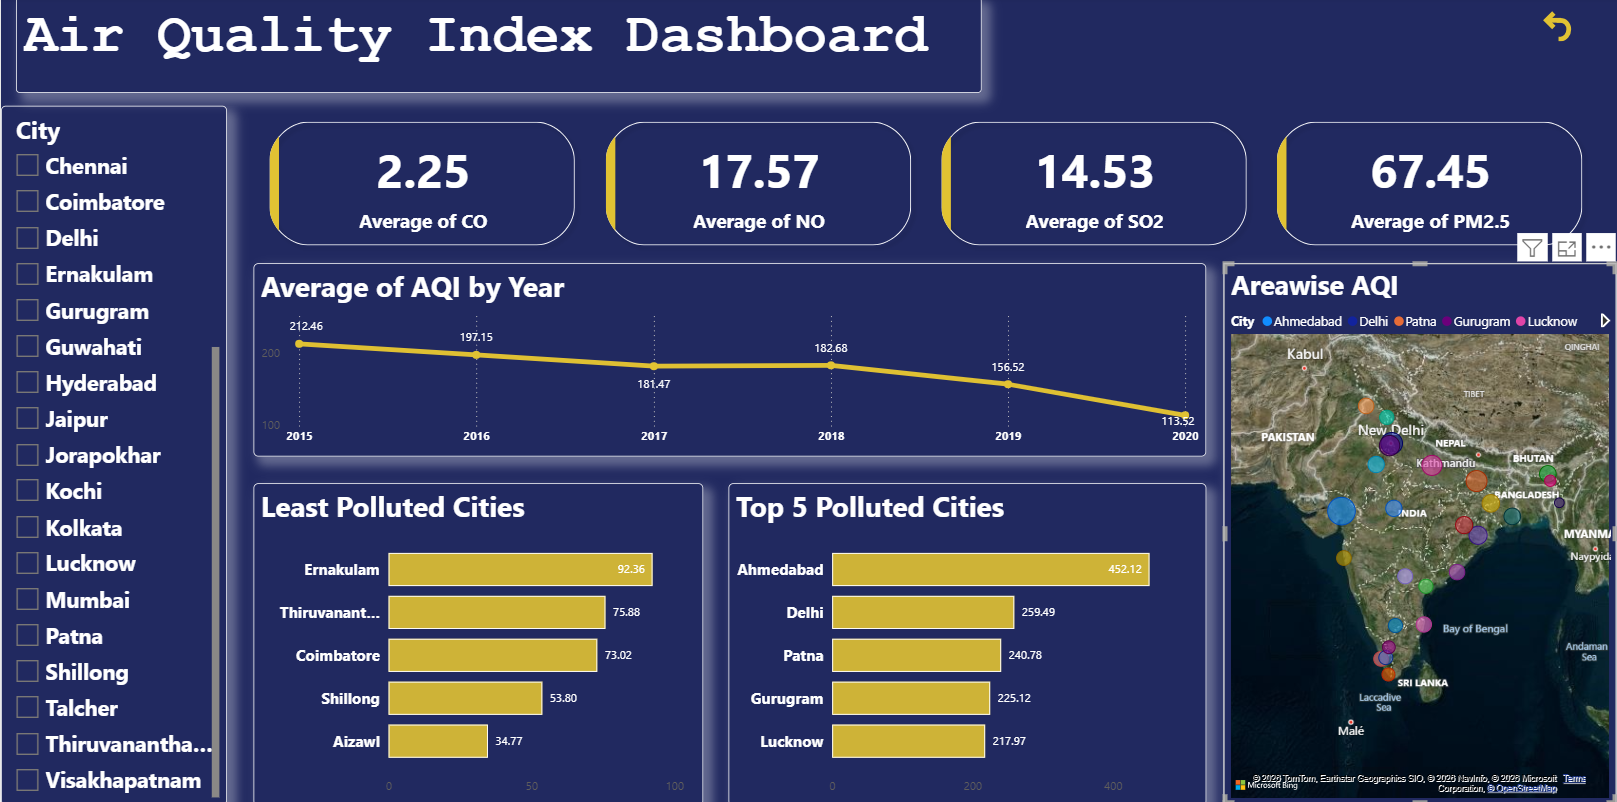

The page's visual inventory and layout, read from the dashboard file:
{"tool":"powerbi","page":{"name":"Page 1","canvas":[1700,850],"ordinal":0},"visuals":[{"type":"lineChart","fields":{"Category":["city_day air pollution.Date.Variation.Date Hierarchy.Year","city_day air pollution.Date.Variation.Date Hierarchy.Quarter","city_day air pollution.Date.Variation.Date Hierarchy.Month","city_day air pollution.Date.Variation.Date Hierarchy.Day"],"Y":["Avg(city_day air pollution.AQI)"]},"box":[265.5,279.5,1001.5,203.1],"z":0},{"type":"slicer","fields":{"Values":["city_day air pollution.City"]},"box":[0,114.6,237.3,736],"z":1000},{"type":"barChart","title":"Top 5 Polluted Cities","fields":{"Category":["city_day air pollution.City"],"Y":["Avg(city_day air pollution.AQI)"]},"box":[764.2,510.8,502.8,339.9],"z":2000},{"type":"barChart","title":"Least Polluted Cities","fields":{"Category":["city_day air pollution.City"],"Y":["Avg(city_day air pollution.AQI)"]},"box":[265.5,510.8,472.6,339.9],"z":3000},{"type":"cardVisual","fields":{"Data":["Avg(city_day air pollution.CO)","Avg(city_day air pollution.NO)","Avg(city_day air pollution.SO2)","Avg(city_day air pollution.PM2.5)"]},"box":[265.5,114.6,1415.8,164.9],"z":4000},{"type":"map","title":"Areawise AQI","fields":{"Category":["city_day air pollution.City"],"Size":["Avg(city_day air pollution.AQI)"],"Series":["city_day air pollution.City"]},"box":[1285.1,279.5,414.3,571.1],"z":5000},{"type":"textbox","box":[16.1,0,1015.6,100.6],"z":6000},{"type":"actionButton","box":[1616.9,10.1,82.5,40.2],"z":7000}]}

Visuals, with their boxes in screenshot pixels (x1, y1, x2, y2), scaled from the page's 1700x850 canvas onto the 1617x802 screenshot:
lineChart - city_day air pollution.Date.Variation.Date Hierarchy.Year x city_day air pollution.Date.Variation.Date Hierarchy.Quarter: (left=253, top=264, right=1205, bottom=455)
slicer - city_day air pollution.City: (left=0, top=108, right=226, bottom=801)
"Top 5 Polluted Cities" barChart: (left=727, top=482, right=1205, bottom=801)
"Least Polluted Cities" barChart: (left=253, top=482, right=702, bottom=801)
cardVisual - Avg(city_day air pollution.CO) x Avg(city_day air pollution.NO): (left=253, top=108, right=1599, bottom=264)
"Areawise AQI" map: (left=1222, top=264, right=1616, bottom=801)
textbox: (left=15, top=0, right=981, bottom=95)
actionButton: (left=1538, top=10, right=1616, bottom=47)
